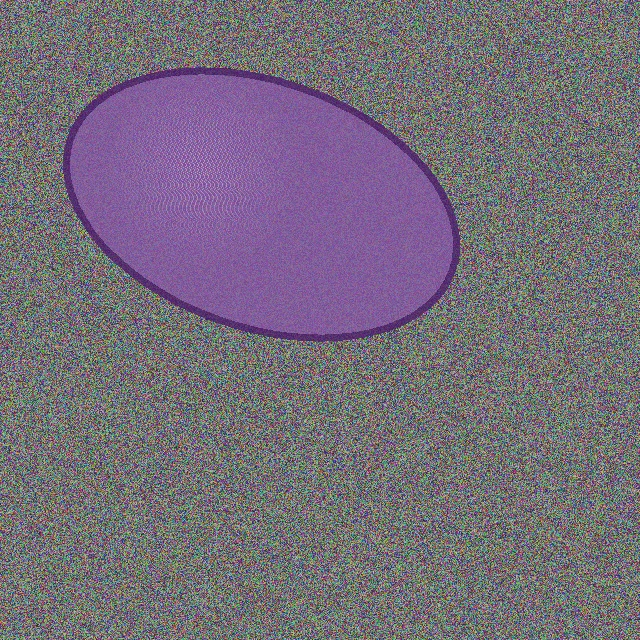lens: (66, 70, 456, 338)
